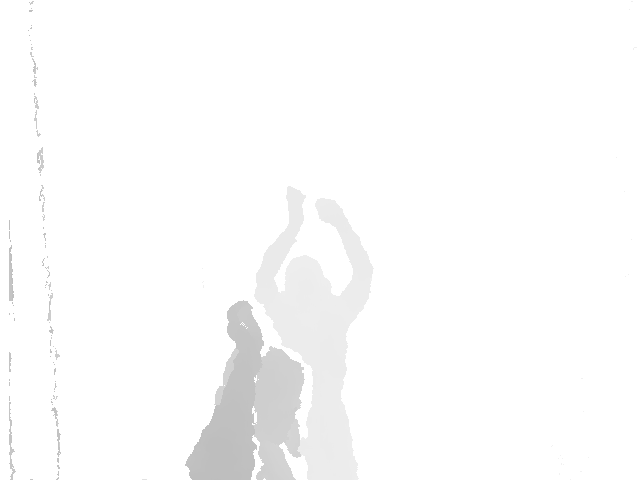hand: (225, 301, 263, 353), (313, 198, 346, 228), (285, 186, 305, 225)
head: (216, 348, 303, 450), (284, 255, 326, 300)
person: (253, 187, 372, 480), (185, 301, 303, 480)
